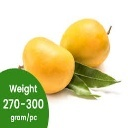mango: (23, 36, 75, 96), (60, 18, 111, 73)
